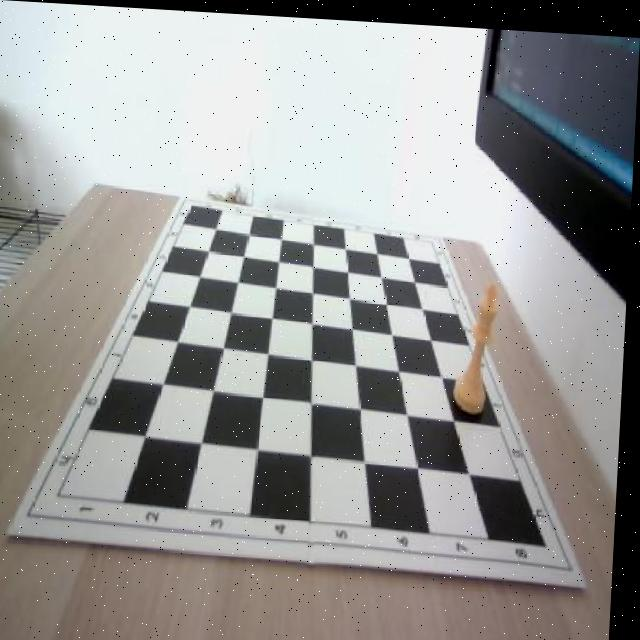white-bishop: (457, 276, 502, 406)
